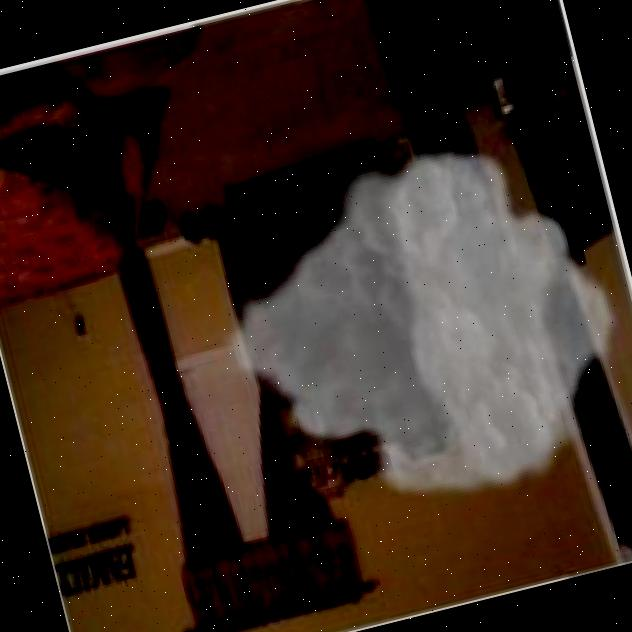smoke: (184, 105, 632, 556)
